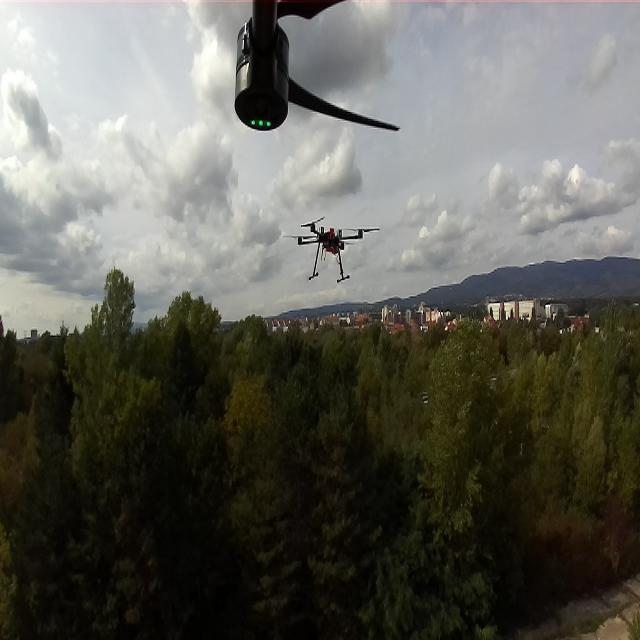UAV: (284, 212, 380, 282)
